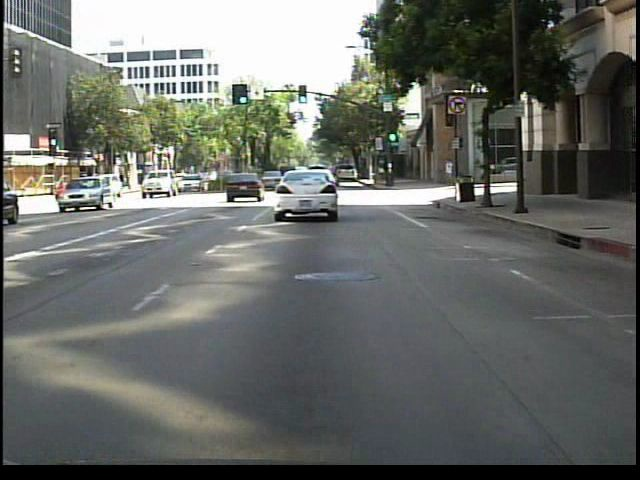person: (441, 151, 457, 191)
